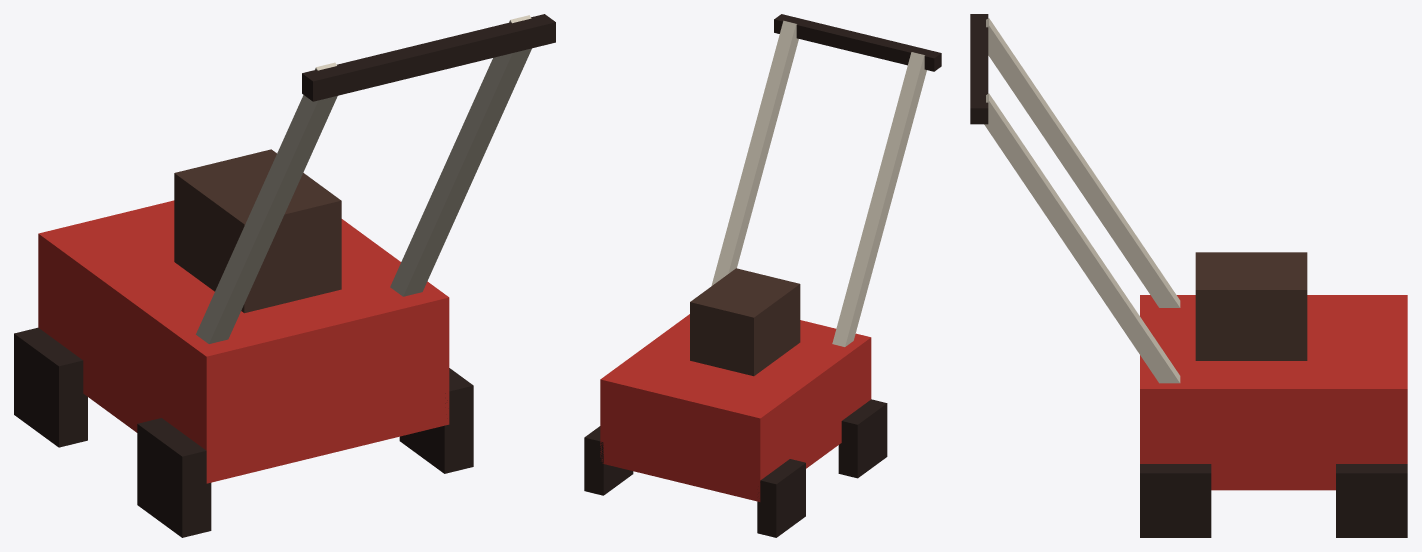
The model's file is kowalskis_mower.glb.
3 renders of one model, left to right at view 1: azimuth 30°, elevation 25°; view 2: azimuth 150°, elevation 25°; view 3: azimuth 270°, elevation 25°, orthographic. The views are drawn at different scales.
Parts seen in each view (by area): view 1: Box1, Box2, Box7, Box8, Box9, Box4, Box3, Box6; view 2: Box1, Box2, Box7, Box8, Box4, Box9, Box3, Box5; view 3: Box1, Box2, Box8, Box7, Box5, Box6, Box9.
Boxes of the visible parts, x1=… form: Box1: x1=38, y1=200, x2=449, y2=483; Box2: x1=174, y1=149, x2=341, y2=313; Box7: x1=196, y1=62, x2=337, y2=343; Box8: x1=390, y1=15, x2=531, y2=296; Box9: x1=302, y1=14, x2=555, y2=101; Box4: x1=137, y1=418, x2=211, y2=537; Box3: x1=14, y1=327, x2=87, y2=447; Box6: x1=399, y1=368, x2=473, y2=473; Box1: x1=600, y1=314, x2=871, y2=501; Box2: x1=690, y1=268, x2=800, y2=376; Box7: x1=832, y1=52, x2=926, y2=346; Box8: x1=711, y1=20, x2=798, y2=285; Box4: x1=838, y1=399, x2=887, y2=478; Box9: x1=774, y1=14, x2=941, y2=71; Box3: x1=757, y1=459, x2=805, y2=537; Box5: x1=584, y1=426, x2=633, y2=495; Box1: x1=1140, y1=295, x2=1407, y2=490; Box2: x1=1195, y1=252, x2=1307, y2=360; Box8: x1=984, y1=93, x2=1180, y2=383; Box7: x1=986, y1=18, x2=1180, y2=307; Box5: x1=1336, y1=464, x2=1407, y2=537; Box6: x1=1140, y1=464, x2=1211, y2=537; Box9: x1=970, y1=14, x2=988, y2=124.
Size of the model in its own units: 0.6 by 1.04 by 0.98.
